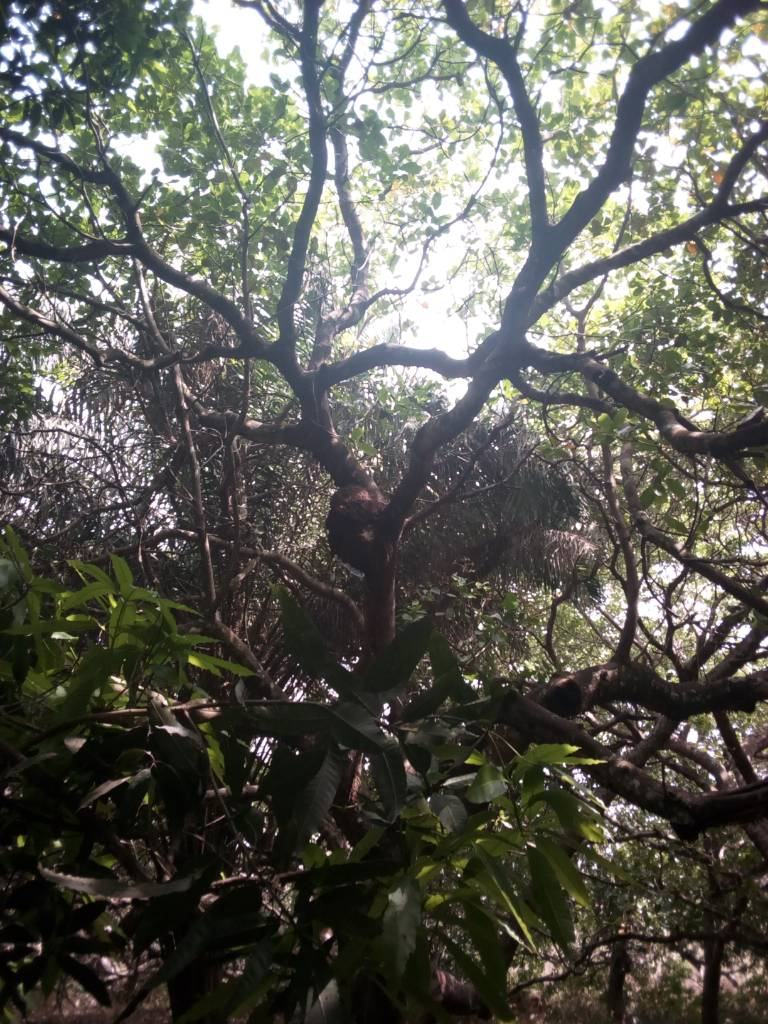Termites: (324, 475, 393, 582)
